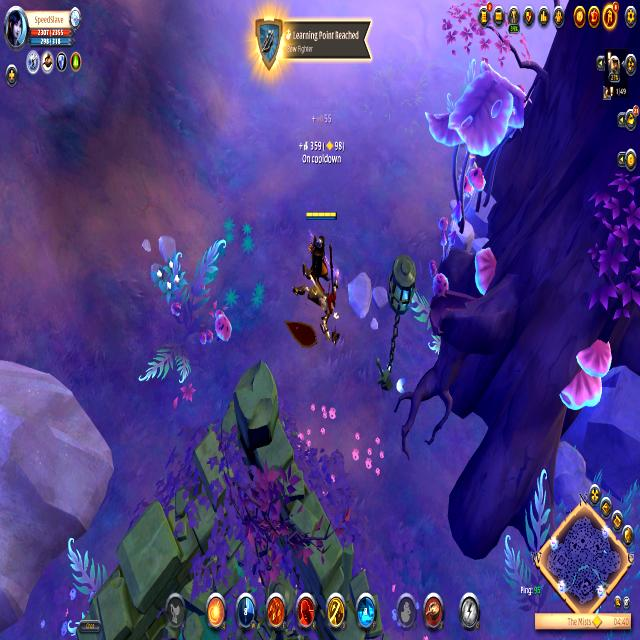10: (376, 248, 420, 392)
hide: (151, 242, 187, 306)
red: (300, 205, 340, 292)
